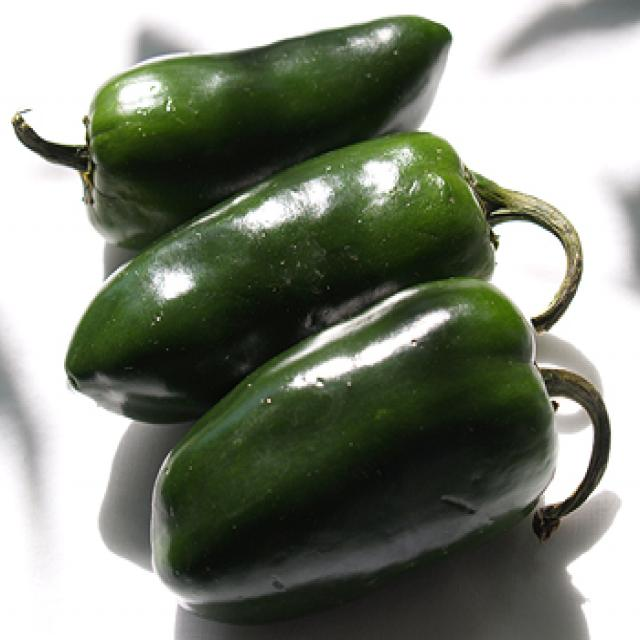aji: (146, 294, 623, 612), (75, 152, 523, 397), (74, 18, 460, 221)
